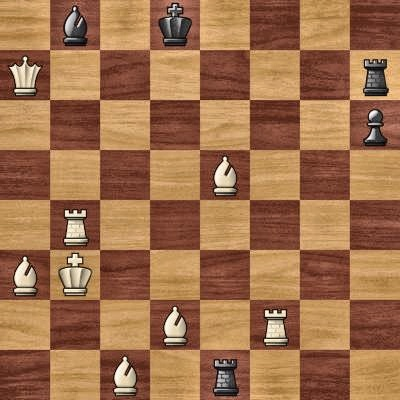black-bishop: (50, 0, 100, 50)
black-king: (150, 0, 200, 50)
black-pawn: (350, 100, 400, 150)
black-rook: (350, 50, 400, 100), (200, 350, 250, 400)
white-bishop: (200, 150, 250, 200), (0, 250, 50, 300), (150, 300, 200, 350), (100, 350, 150, 400)
white-king: (50, 250, 100, 300)
white-queen: (0, 50, 50, 100)
white-rook: (50, 200, 100, 250), (250, 300, 300, 350)
